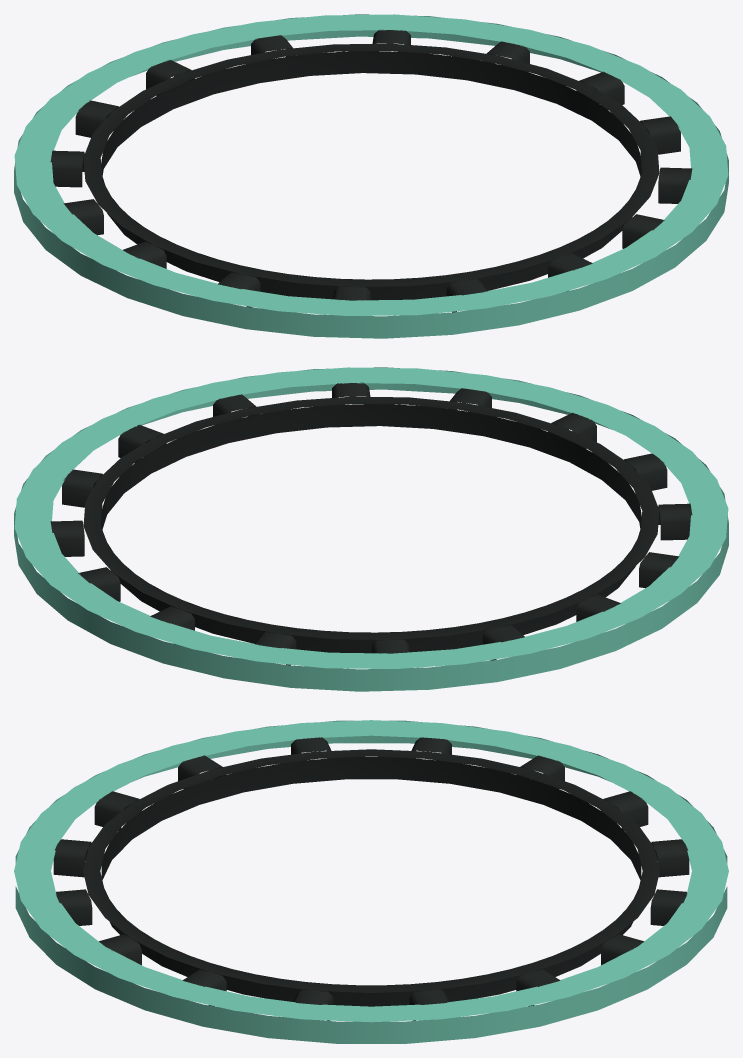
File: geyser_launcher_grate.glb
3 renders of one model, top to bottom at view 1: azimuth 30°, elevation 25°; view 2: azimuth 150°, elevation 25°; view 3: azimuth 270°, elevation 25°, orthographic.
Parts seen in each view (by area): view 1: Grate; view 2: Grate; view 3: Grate.
Boxes of the visible parts, left/top/right/bottom form: Grate: left=14, top=14, right=728, bottom=338; Grate: left=14, top=367, right=728, bottom=691; Grate: left=14, top=720, right=728, bottom=1043.
Size of the model in its own units: 5.8 by 0.2 by 5.8.
